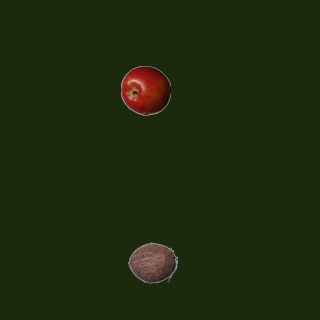Apple Braeburn: (120, 65, 170, 115)
Cocos: (127, 237, 177, 287)
